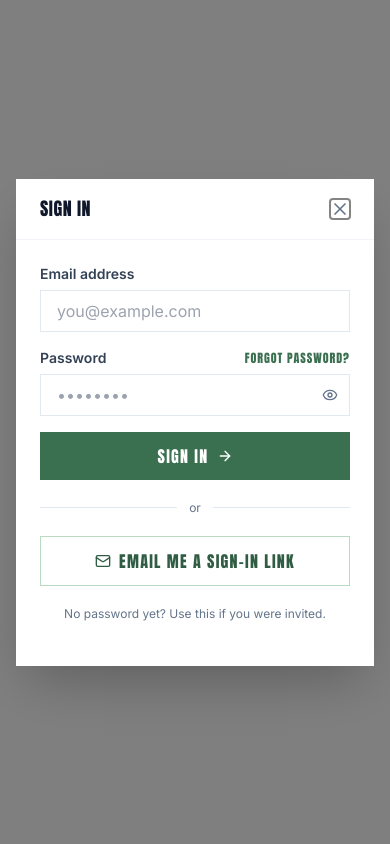
Scenario: magic-link copy tells you WHERE to open it › on native, says to open it on this phone
Type "truman@example.com" into the field with placeholder "you@example.com" at [195, 310], box [40, 290, 350, 332]
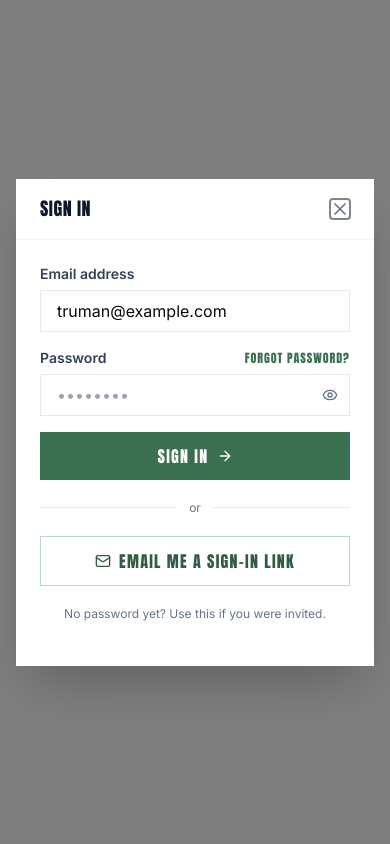
Click the button "Email me a sign-in link" at [195, 560], box [40, 536, 350, 586]
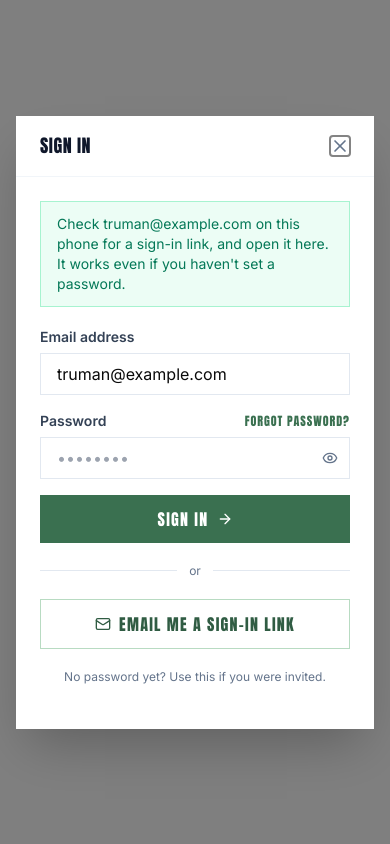
Result: the text "on this phone" is shown at [57, 214, 329, 292]
